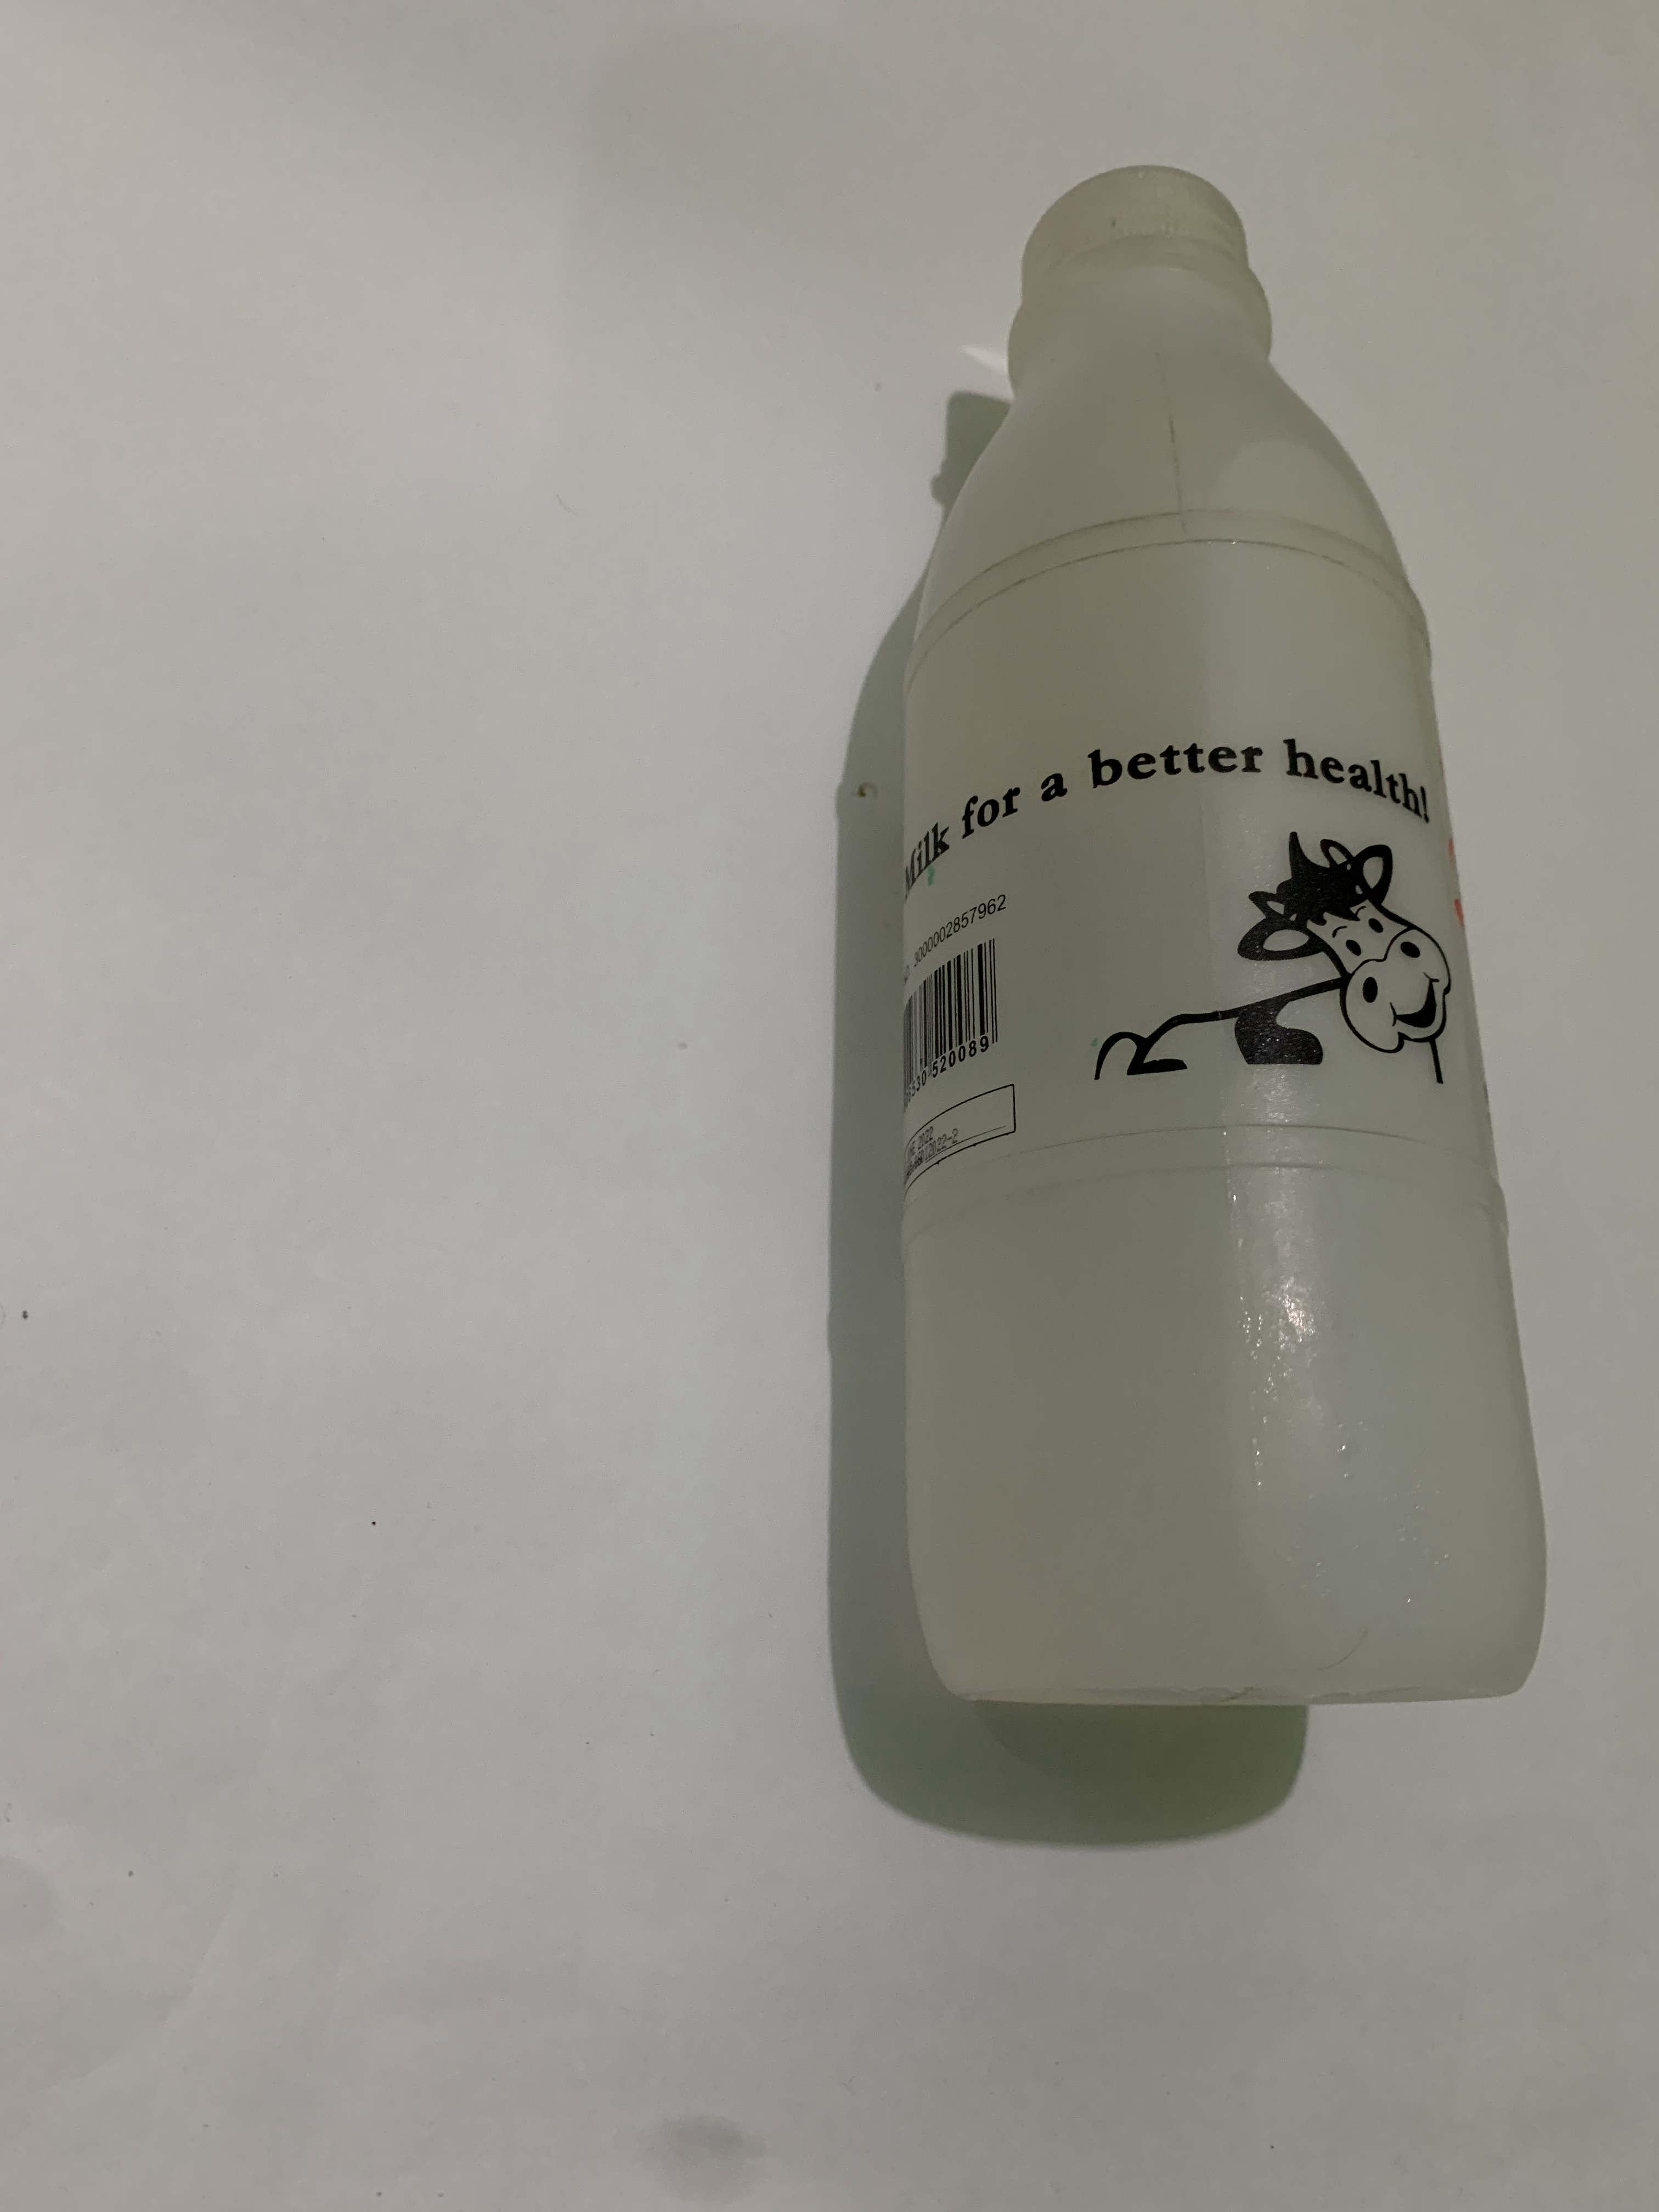bottle: (875, 153, 1549, 1717)
